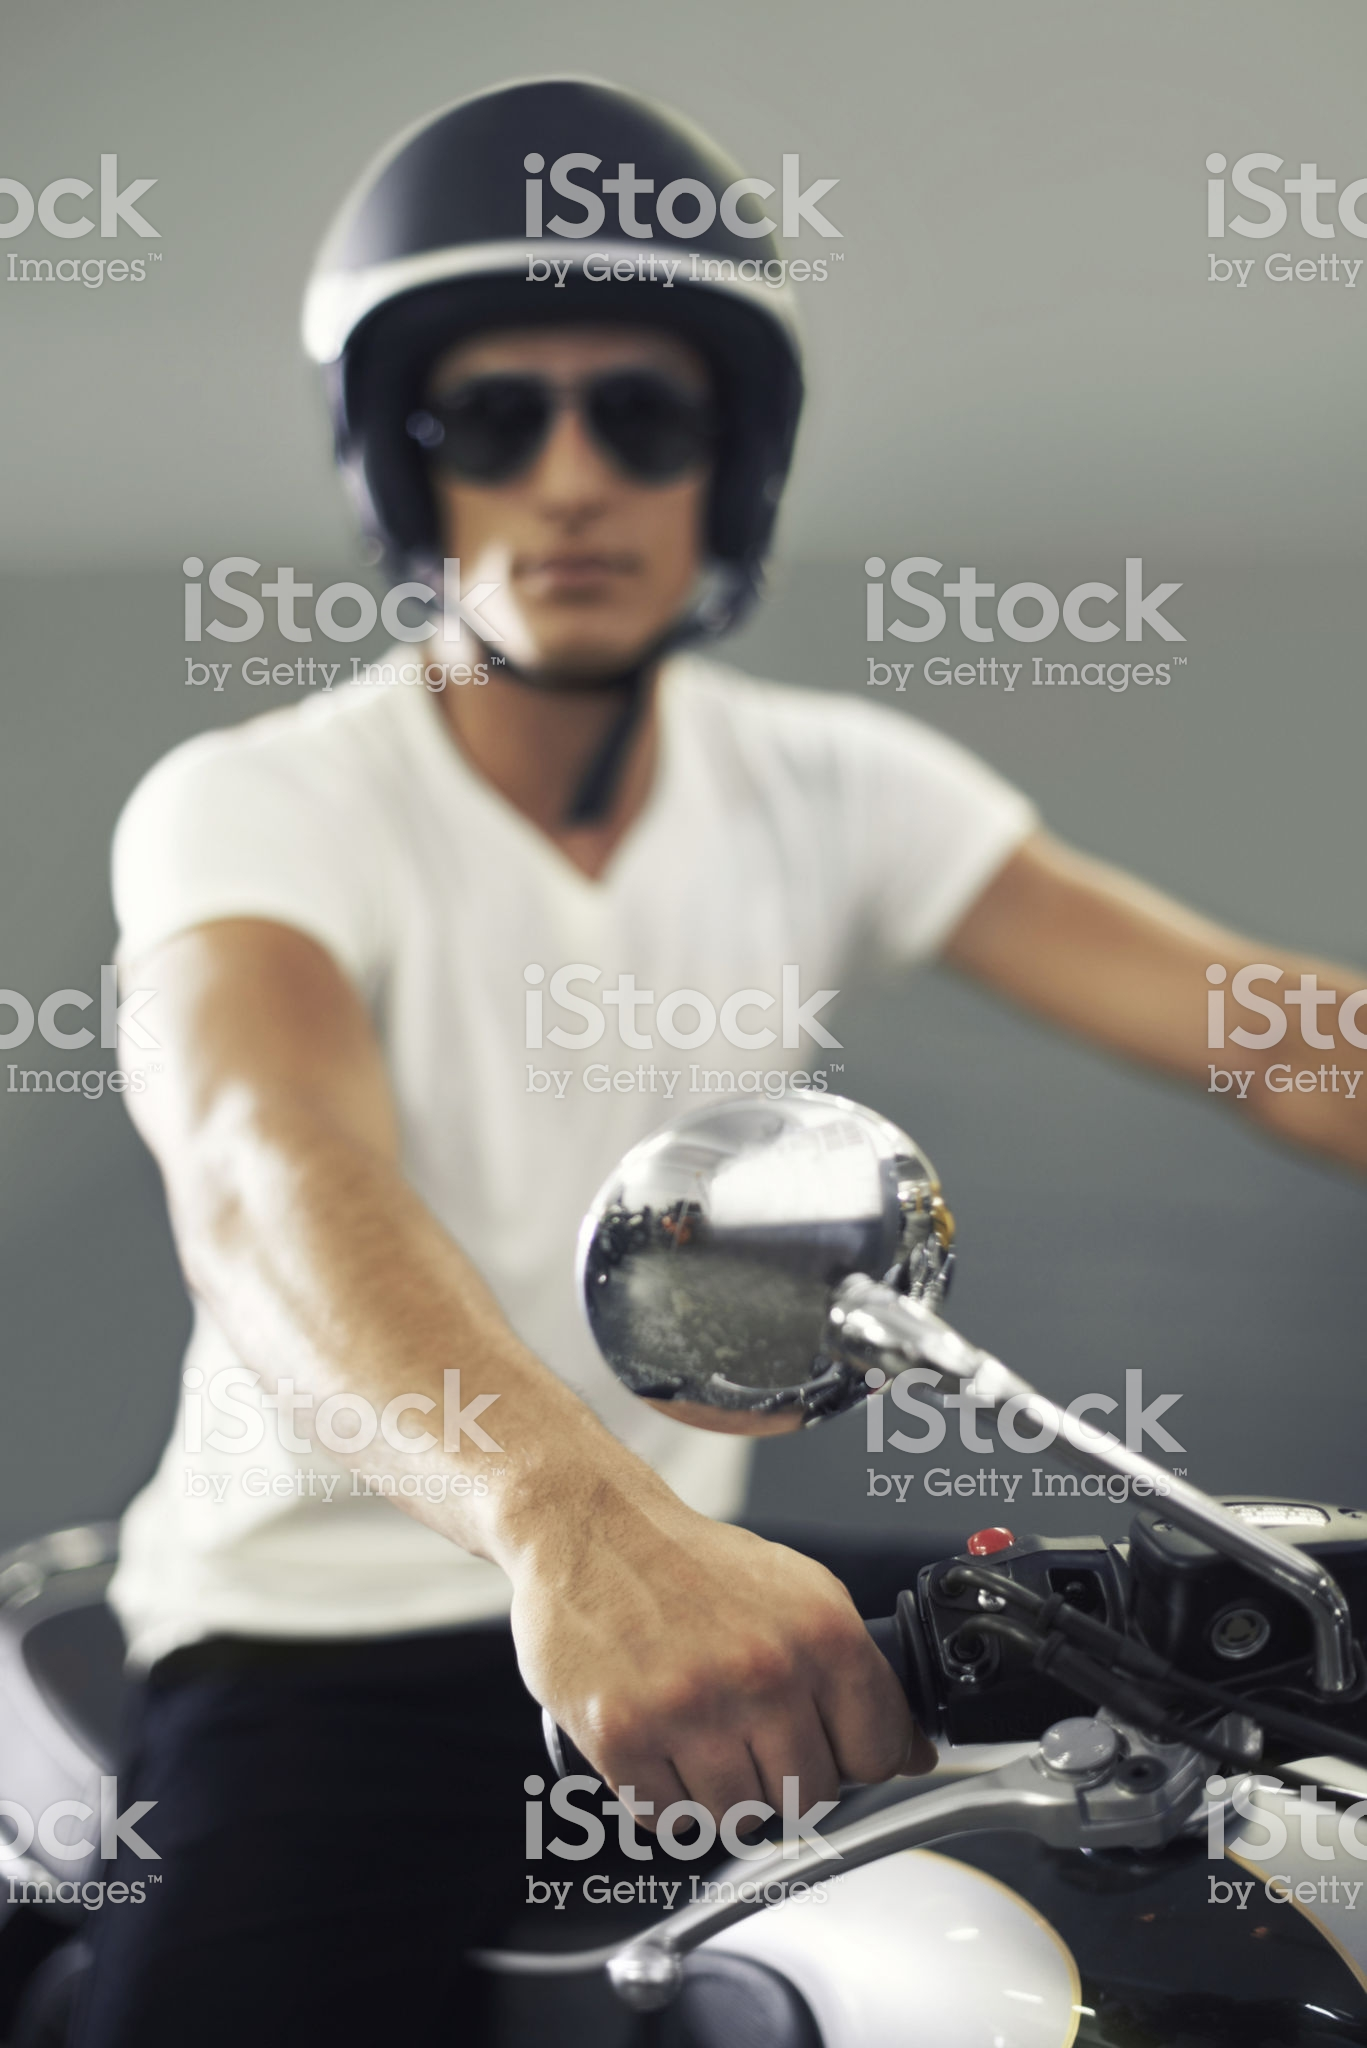helmet: (285, 95, 824, 554)
